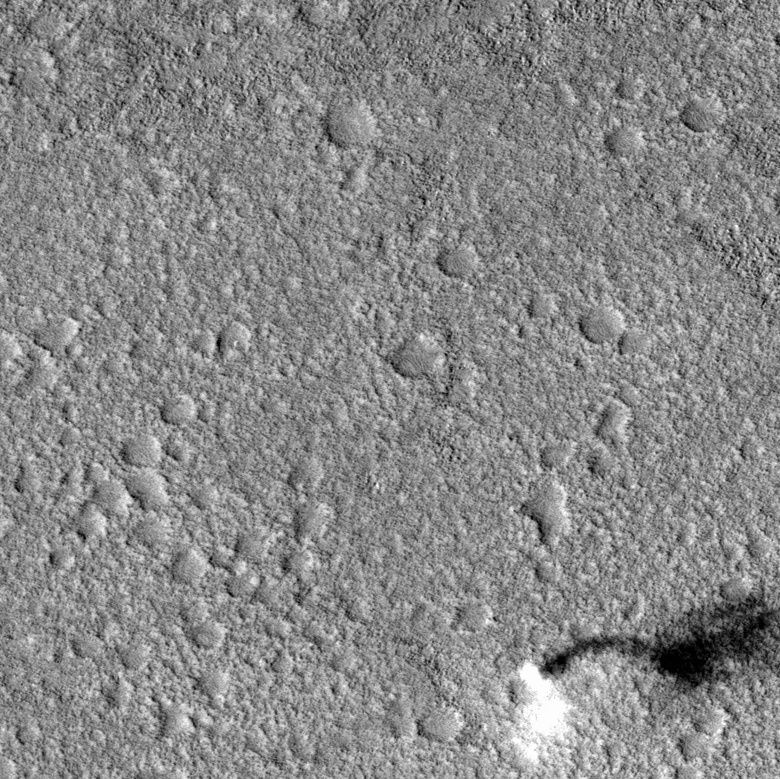dust_devil: (507, 588, 780, 768)
